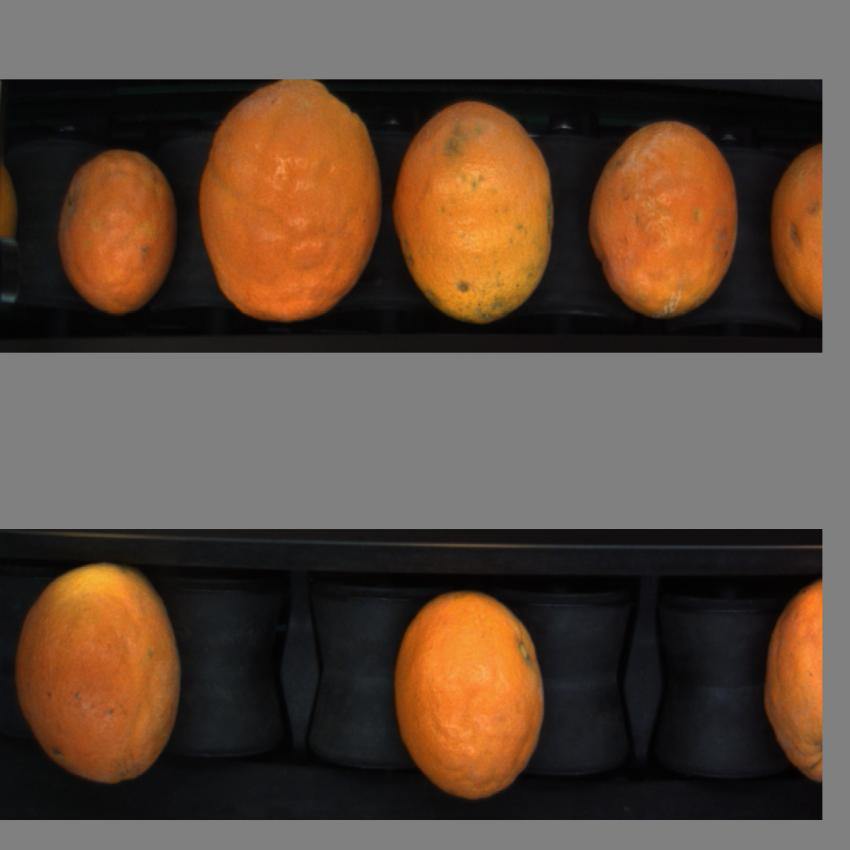Buen estado: (14, 557, 193, 791), (391, 89, 561, 329), (393, 579, 550, 805), (759, 571, 822, 796)
Mal estado: (195, 78, 386, 325), (580, 103, 749, 324), (53, 142, 182, 323), (762, 140, 822, 320)
